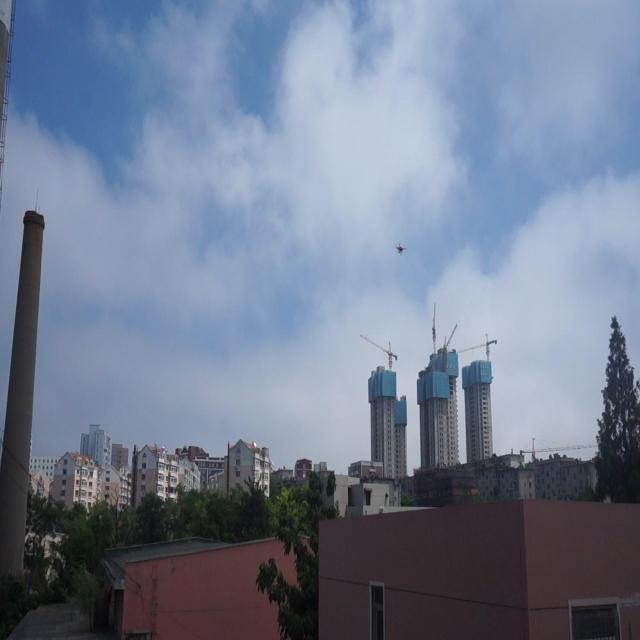drone: (395, 242, 406, 255)
